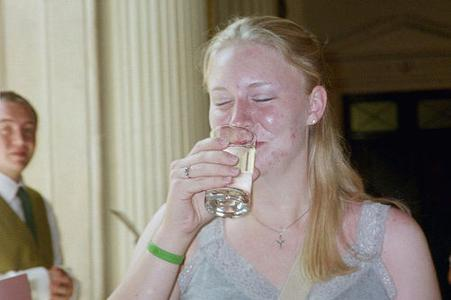person: (107, 14, 444, 300)
